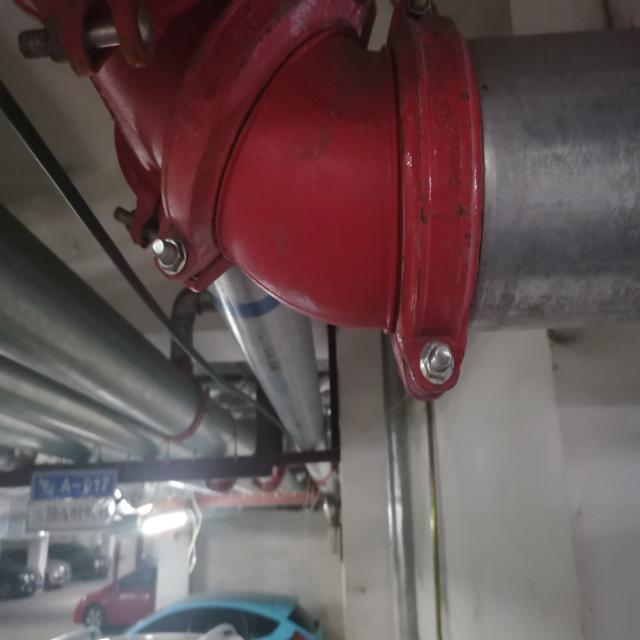bolt nut: (422, 338, 455, 382), (154, 235, 184, 274)
